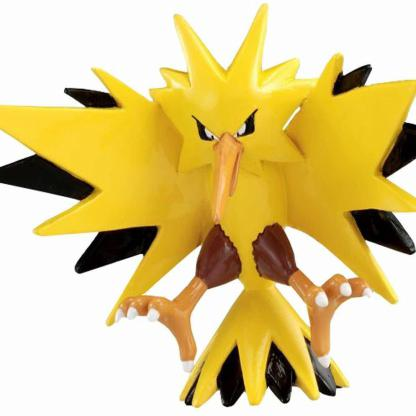Zapdos: (1, 17, 416, 406)
